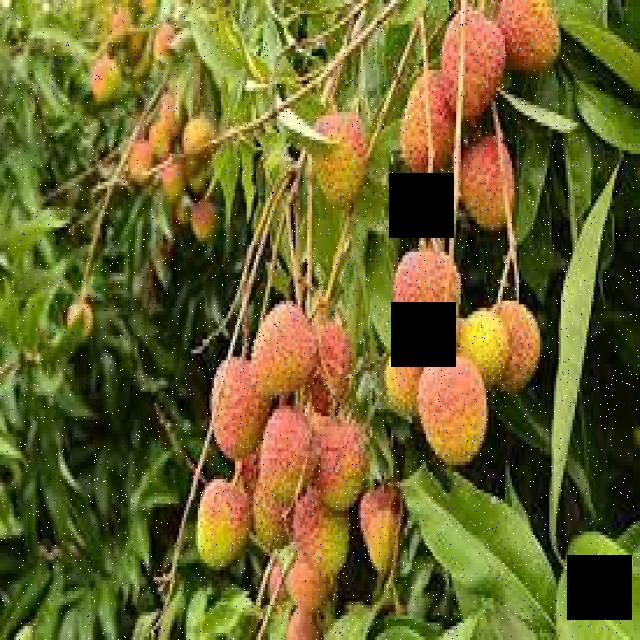lychee: (210, 310, 371, 566)
